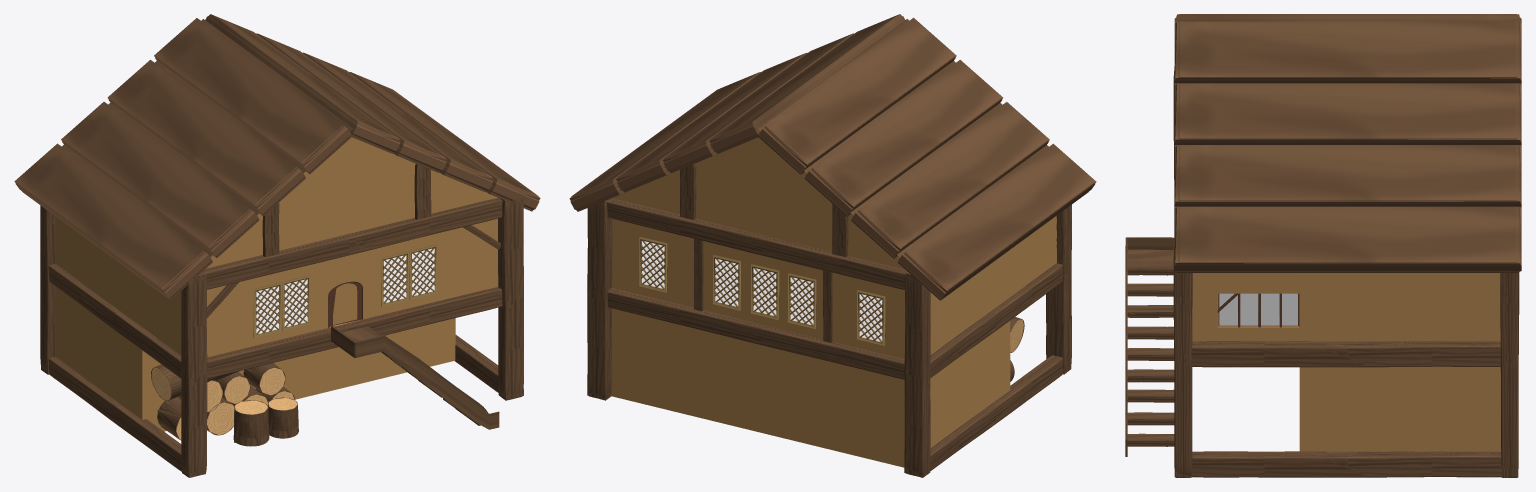
File: Lumberjack house LOD.fbx
3 views of the same model, side by side, from view 1: azimuth 30°, elevation 25°; view 2: azimuth 150°, elevation 25°; view 3: azimuth 270°, elevation 25° (orthographic). The views are drawn at different scales.
Visible parts, largest first — view 1: LumberJack_LOD1, LumberJack_LOD2, LumberJack_LOD3; view 2: LumberJack_LOD1, LumberJack_LOD2, LumberJack_LOD3; view 3: LumberJack_LOD1, LumberJack_LOD2, LumberJack_LOD3.
Part boxes in pixels (left/top/right/bottom): LumberJack_LOD1: left=16, top=16, right=539, bottom=477; LumberJack_LOD2: left=15, top=14, right=538, bottom=472; LumberJack_LOD3: left=14, top=14, right=540, bottom=477; LumberJack_LOD1: left=570, top=16, right=1095, bottom=475; LumberJack_LOD2: left=570, top=14, right=1087, bottom=471; LumberJack_LOD3: left=569, top=14, right=1096, bottom=477; LumberJack_LOD1: left=1125, top=14, right=1521, bottom=477; LumberJack_LOD2: left=1125, top=14, right=1521, bottom=477; LumberJack_LOD3: left=1125, top=14, right=1521, bottom=477.
Size of the model in its own units: 18.73 by 15.11 by 14.72.
41 materials, 24 textured.
